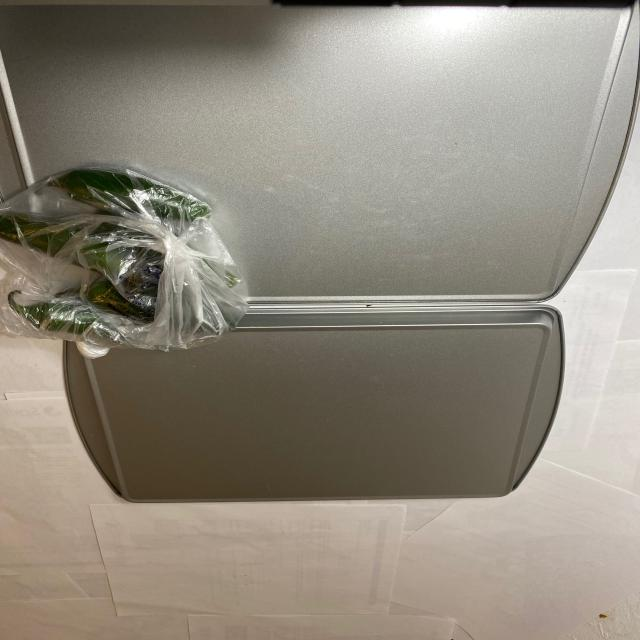chilli: (6, 173, 246, 341)
